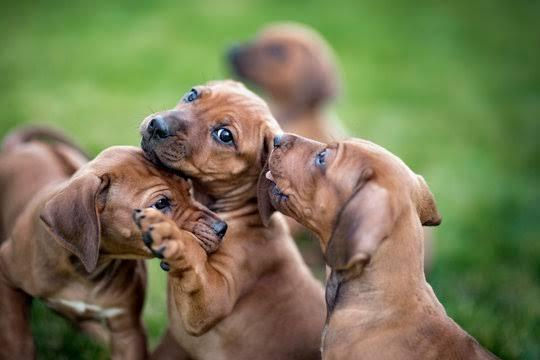puppy-dog: (1, 121, 228, 358), (136, 80, 328, 360), (266, 130, 495, 360), (223, 21, 349, 147)
